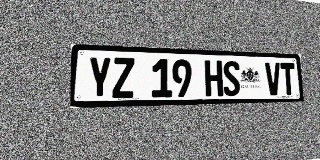1: (151, 58, 172, 97)
9: (172, 59, 192, 97)
H: (204, 60, 223, 97)
S: (223, 61, 241, 96)
T: (280, 63, 296, 95)
V: (265, 62, 281, 95)
Y: (88, 56, 111, 99)
Z: (112, 57, 135, 98)
